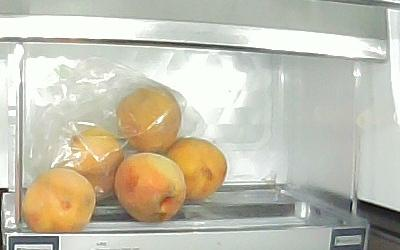peach: (114, 152, 186, 223), (23, 168, 95, 232), (167, 138, 227, 200)
peach_vinyl: (117, 86, 182, 153), (63, 128, 124, 198)
